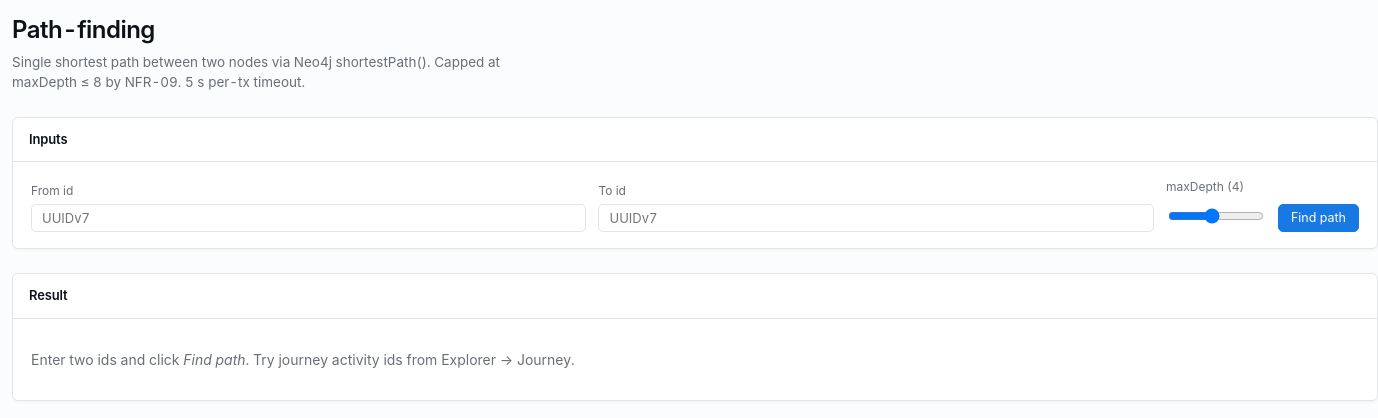
ExplorerPath (FR-10 / AC-07) › (f) network/Neo4j unreachable → service-offline banner
This screenshot has width=1378, height=418.
Type "node-a" into the field with test id "path-from" at (309, 218), box left=31, top=204, right=586, bottom=232
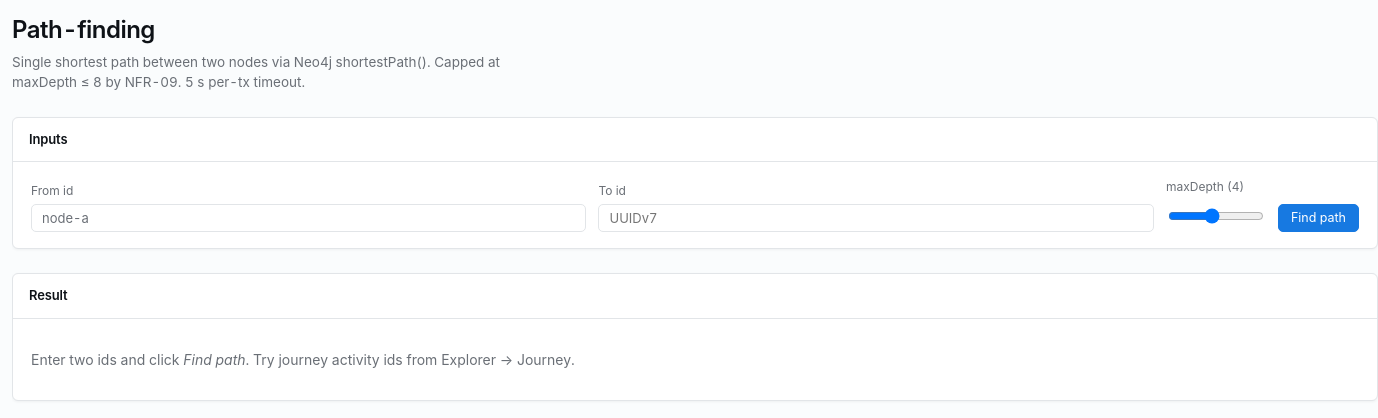
Type "node-b" into the field with test id "path-to" at (876, 218), box left=598, top=204, right=1154, bottom=232
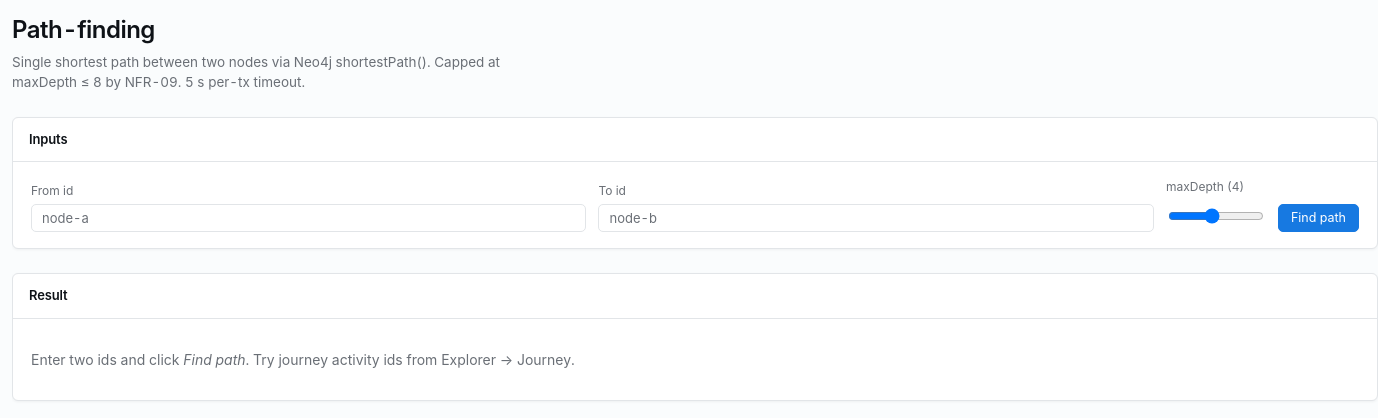
Click the button "Find path" at (1318, 218), box left=1278, top=204, right=1359, bottom=232
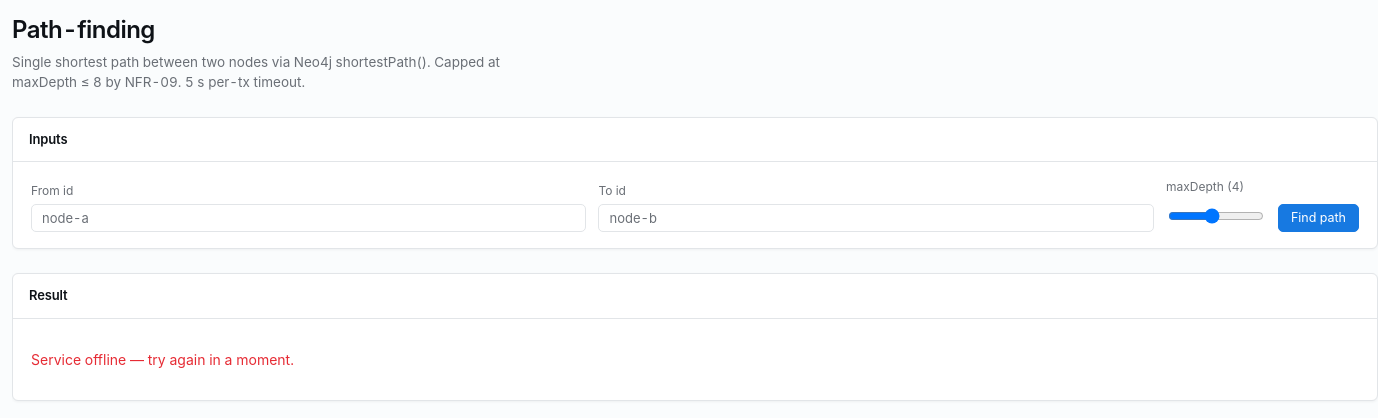
Check: the text "Service offline — try again in a moment." is shown, box left=31, top=350, right=294, bottom=368
